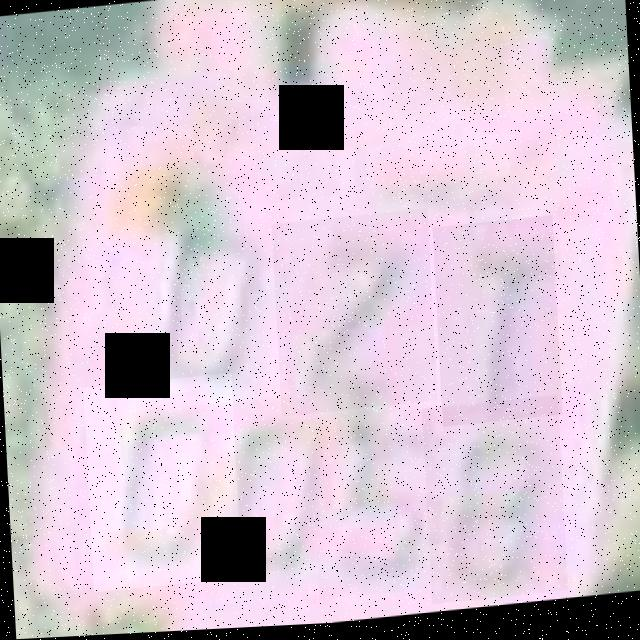0: (184, 380, 355, 600), (84, 375, 242, 594)
5: (309, 407, 446, 604)
8: (422, 400, 568, 609)
O: (118, 186, 288, 414)
T: (432, 221, 562, 432)
Z: (272, 212, 438, 420)
